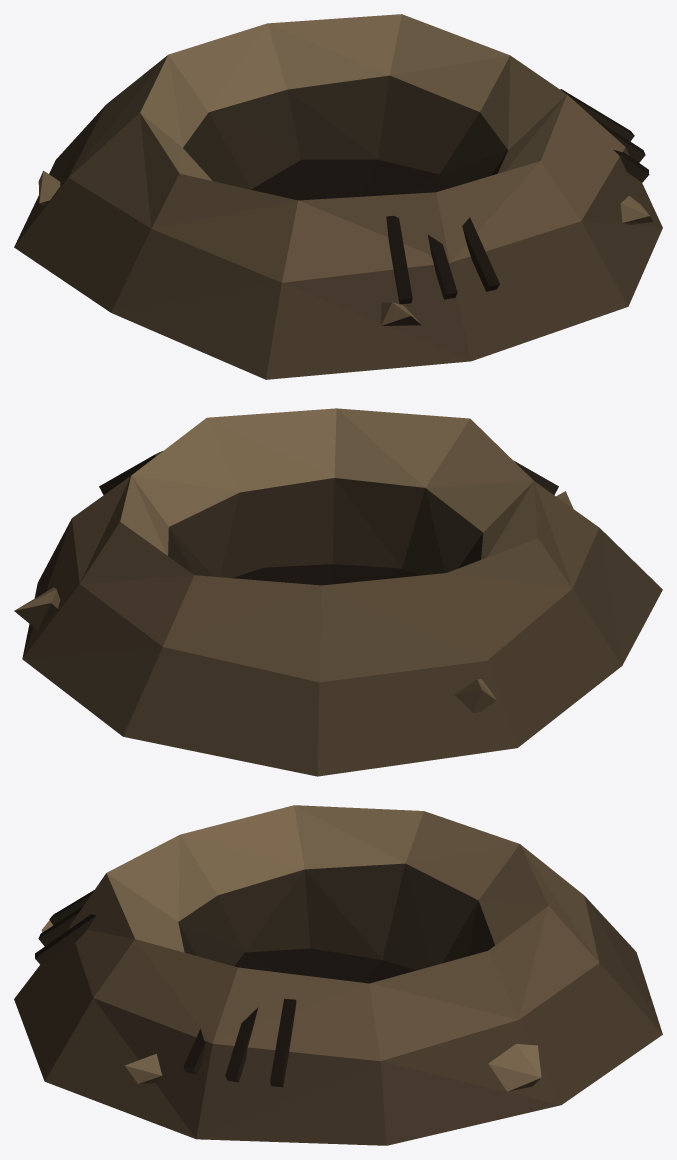
Rendered from burrow_hole.glb.
3 views of the same model, one above another, from view 1: azimuth 30°, elevation 25°; view 2: azimuth 150°, elevation 25°; view 3: azimuth 270°, elevation 25° (orthographic).
Parts seen in each view (by area): view 1: burrow_hole; view 2: burrow_hole; view 3: burrow_hole.
Part boxes in pixels (x1,y1,x2,y2): burrow_hole: (14,14,662,379); burrow_hole: (14,408,662,776); burrow_hole: (14,805,662,1145).
Bounding box in the file's own units: 1.11 × 0.2727 × 1.18.
